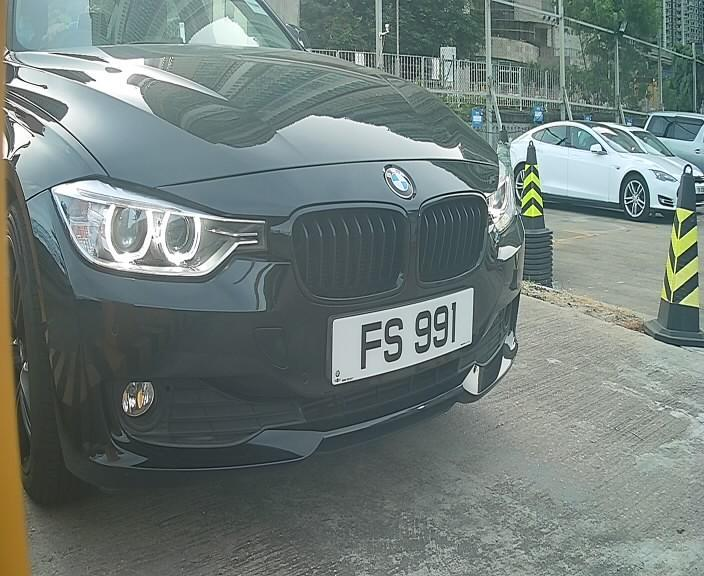privatecar: (10, 26, 551, 476)
